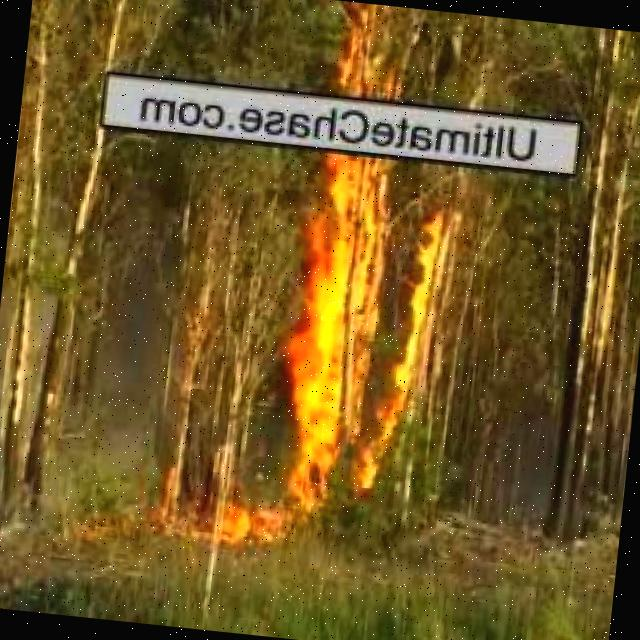fire: (272, 203, 463, 500), (324, 46, 416, 216), (218, 506, 285, 556)
